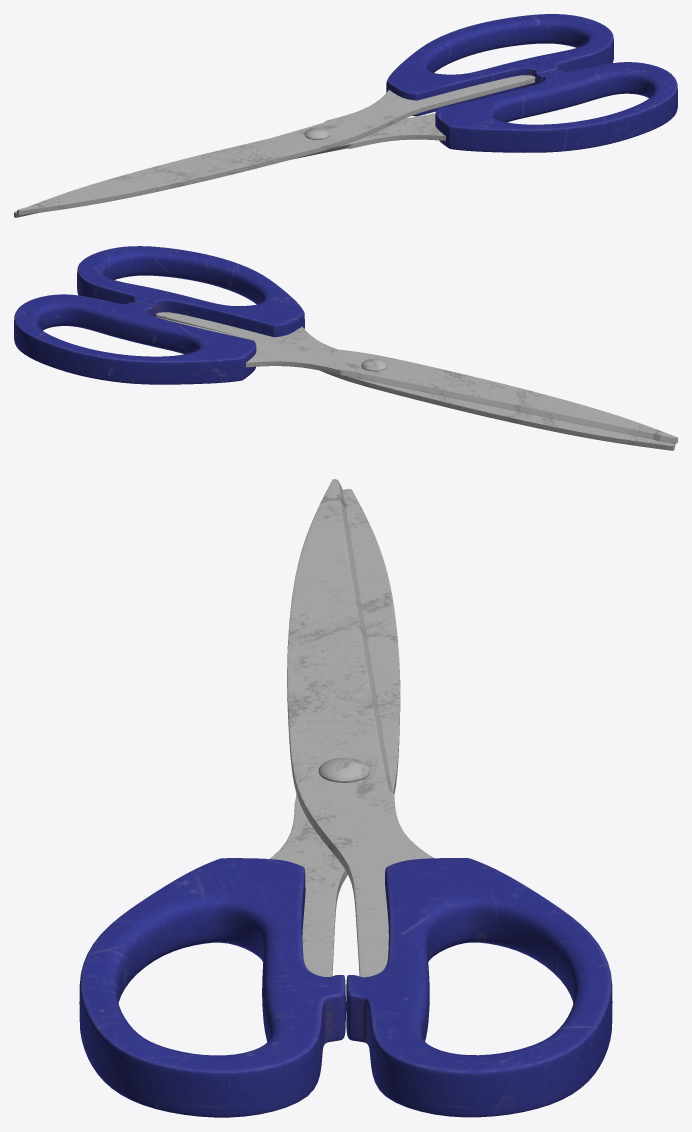
File: scissors.glb
3 views of the same model, one above another, from view 1: azimuth 30°, elevation 25°; view 2: azimuth 150°, elevation 25°; view 3: azimuth 270°, elevation 25° (orthographic). The views are drawn at different scales.
Parts seen in each view (by area): view 1: Scissors._Blue_2; view 2: Scissors._Blue_2; view 3: Scissors._Blue_2.
Boxes of the visible parts, bbox=[...] form: Scissors._Blue_2: bbox=[14, 14, 677, 217]; Scissors._Blue_2: bbox=[14, 246, 677, 450]; Scissors._Blue_2: bbox=[79, 479, 612, 1117].
Size of the model in its own units: 0.8981 by 0.0326 by 0.3333.
Materials: 1 (1 with a texture image).
